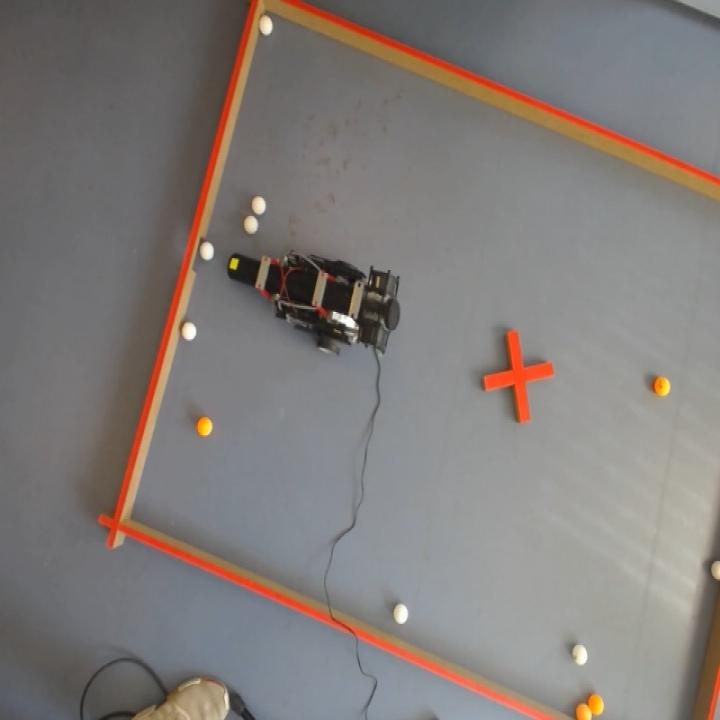orange: (653, 374, 672, 397), (589, 694, 605, 716), (196, 415, 212, 437), (574, 702, 591, 720)
robot: (226, 254, 399, 356)
robot-front: (228, 254, 255, 284)
white: (571, 642, 590, 668), (392, 601, 410, 626), (180, 320, 198, 343), (200, 240, 214, 261), (260, 12, 272, 36), (251, 196, 267, 214), (710, 558, 720, 585), (244, 216, 259, 234)
